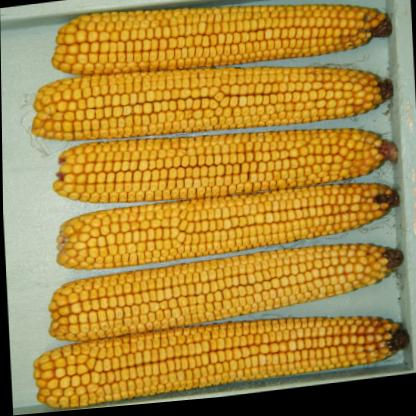---: (20, 37, 403, 157), (27, 303, 416, 412), (48, 107, 404, 220), (38, 241, 414, 346), (52, 176, 404, 275), (50, 0, 405, 88)
